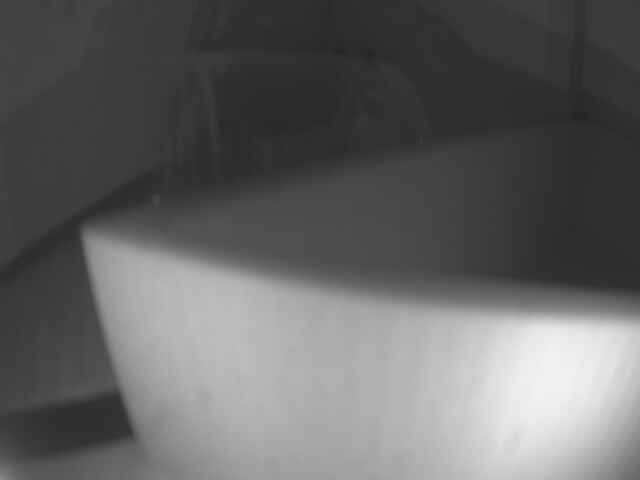Point: (81, 226, 636, 477)
